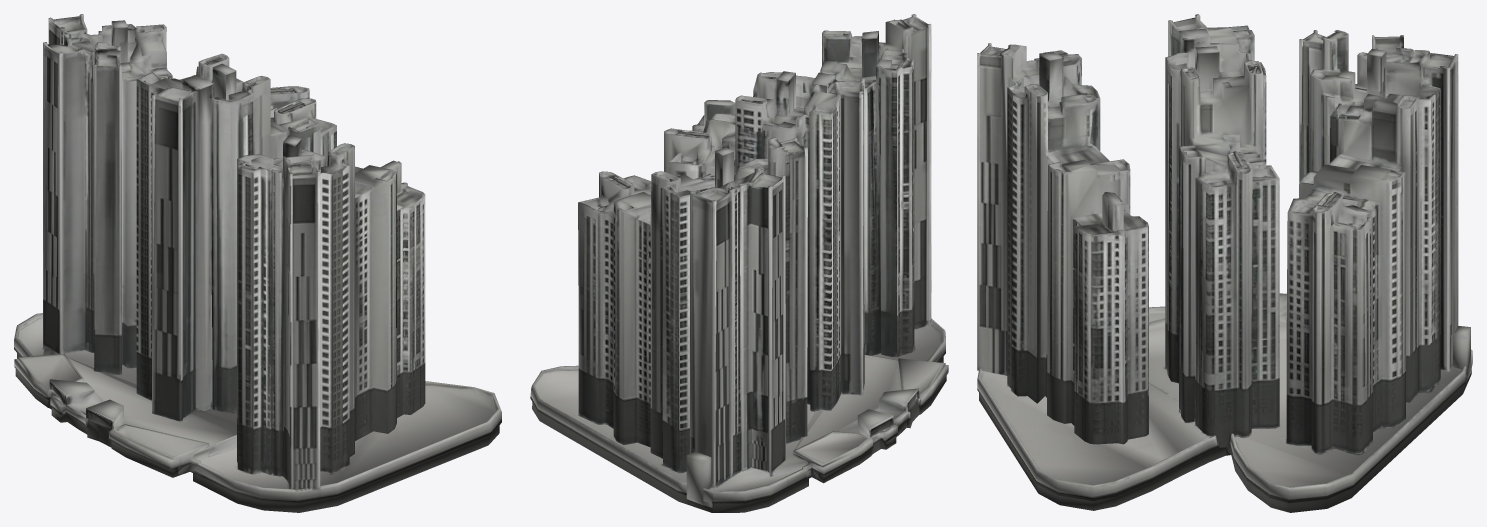
Rendered from 레벨4_아파트.glb.
The picture shows the model from 3 angles, left to right: view 1: azimuth 30°, elevation 25°; view 2: azimuth 150°, elevation 25°; view 3: azimuth 270°, elevation 25°; orthographic projection. The views are drawn at different scales.
Visible parts, largest first — view 1: tripo_node_decc8965-69a0-4514-905a-3d30b73e0483; view 2: tripo_node_decc8965-69a0-4514-905a-3d30b73e0483; view 3: tripo_node_decc8965-69a0-4514-905a-3d30b73e0483.
Part boxes in pixels (box(x1,y1,x2,y2)): tripo_node_decc8965-69a0-4514-905a-3d30b73e0483: box(14, 14, 501, 512); tripo_node_decc8965-69a0-4514-905a-3d30b73e0483: box(530, 14, 948, 512); tripo_node_decc8965-69a0-4514-905a-3d30b73e0483: box(977, 14, 1472, 512).
Bounding box in the file's own units: 0.8341 × 0.7949 × 0.998.
Materials: 1 (1 with a texture image).
